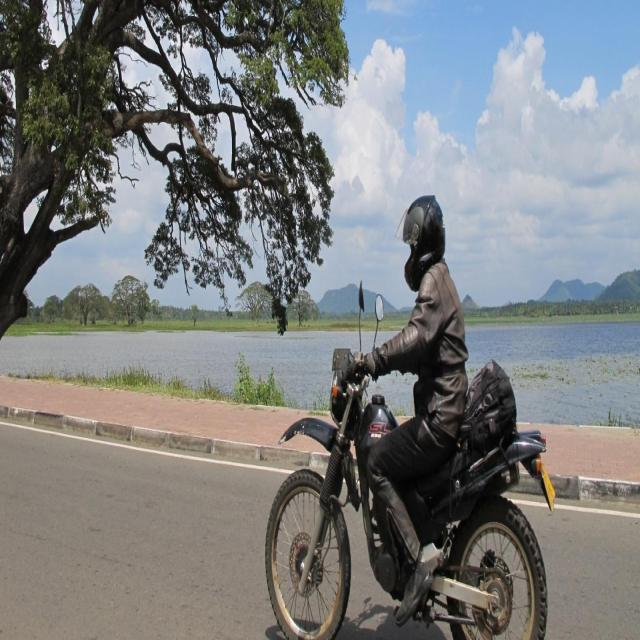Cycle: (268, 319, 552, 640)
